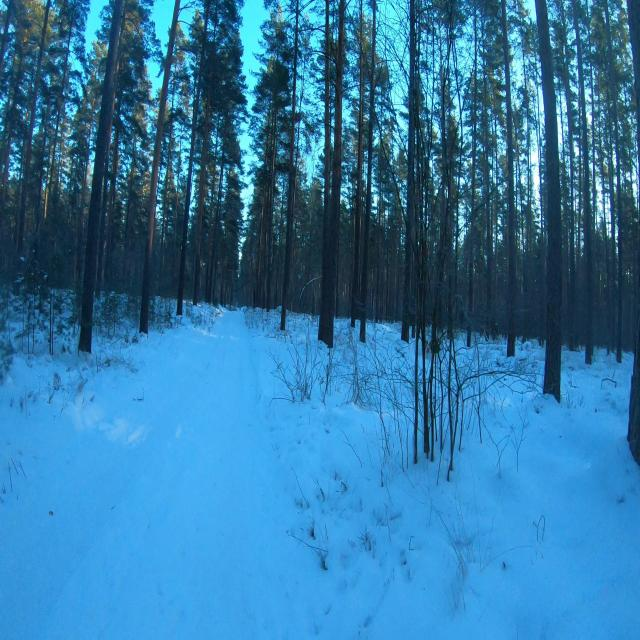bush: (370, 287, 492, 481), (272, 322, 320, 402), (15, 259, 47, 353), (349, 329, 360, 404), (0, 331, 14, 383), (49, 288, 54, 355), (5, 289, 9, 321), (38, 284, 42, 313)
trees: (79, 0, 124, 352), (245, 2, 293, 307), (139, 0, 180, 333), (429, 2, 457, 481), (535, 0, 562, 403), (177, 0, 209, 315), (318, 0, 345, 347), (16, 0, 51, 257), (571, 0, 594, 364), (558, 0, 578, 349), (604, 0, 623, 362), (280, 0, 298, 331), (359, 0, 376, 343), (501, 0, 517, 357), (44, 26, 72, 220), (401, 0, 416, 340), (318, 0, 330, 345), (351, 0, 363, 327), (192, 92, 210, 305), (519, 20, 532, 300), (467, 4, 477, 347), (0, 55, 22, 207), (206, 143, 225, 302), (102, 119, 120, 280), (483, 104, 495, 335), (265, 99, 278, 311), (627, 0, 640, 163), (627, 302, 640, 465), (160, 120, 173, 275), (35, 105, 50, 235), (204, 133, 218, 260), (125, 133, 137, 247), (0, 0, 13, 80), (2, 122, 13, 208), (79, 147, 88, 235), (67, 156, 75, 216), (56, 137, 64, 194), (203, 260, 210, 301), (11, 80, 19, 110), (176, 170, 180, 225), (178, 142, 181, 169), (88, 120, 92, 140), (174, 226, 177, 246), (77, 236, 80, 251), (76, 269, 79, 277)
